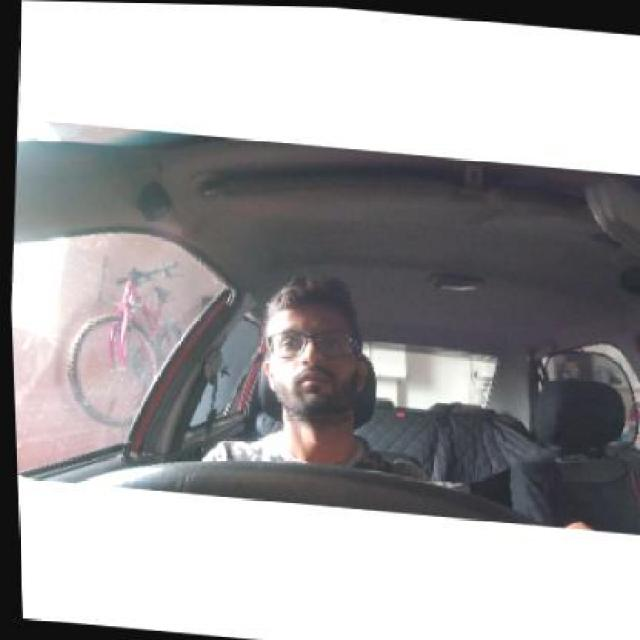person: (257, 271, 378, 432)
